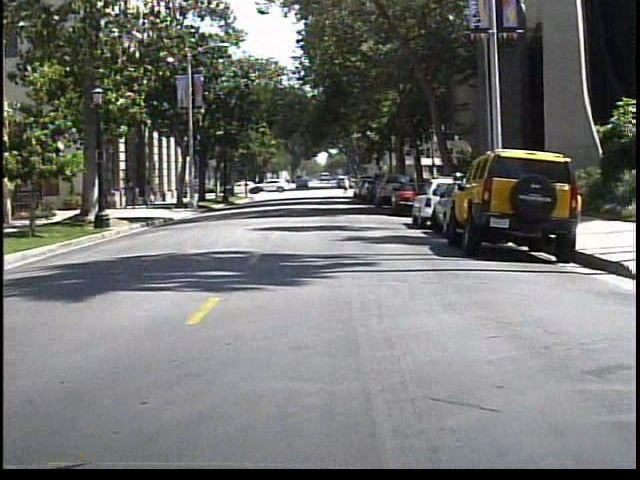person: (122, 175, 142, 209), (139, 177, 160, 209), (342, 172, 356, 195)
